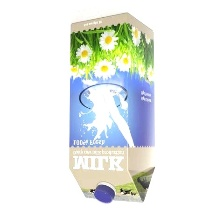carton: (62, 9, 159, 212)
